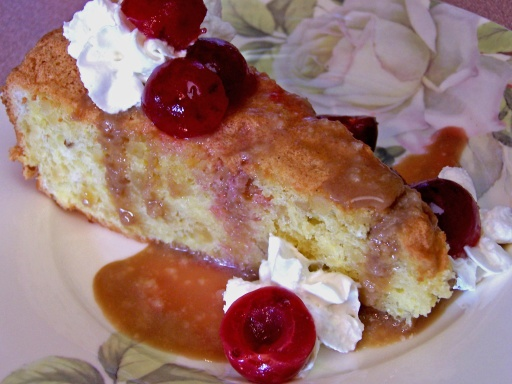background: (0, 0, 410, 230)
